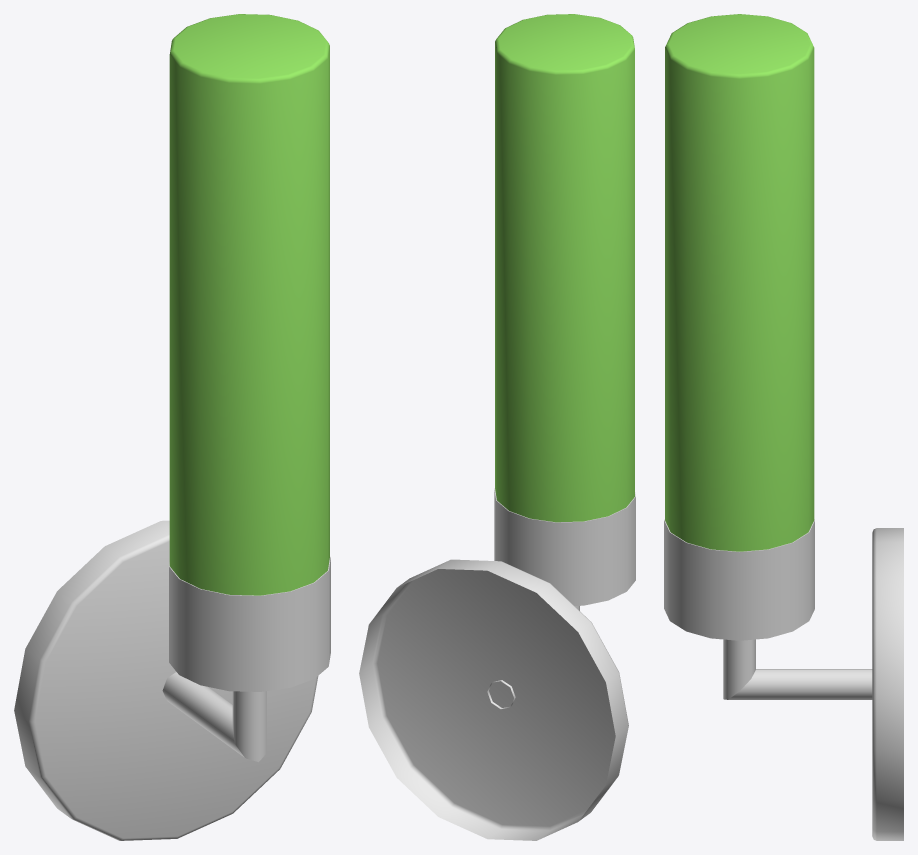
Rendered from InteriorLight06.fbx.
3 views of the same model, side by side, from view 1: azimuth 30°, elevation 25°; view 2: azimuth 150°, elevation 25°; view 3: azimuth 270°, elevation 25° (orthographic). The views are drawn at different scales.
Visible parts, largest first — view 1: Circle_005; view 2: Circle_005; view 3: Circle_005.
Part boxes in pixels (left/top/right/bottom): Circle_005: left=14, top=14, right=330, bottom=840; Circle_005: left=359, top=14, right=635, bottom=840; Circle_005: left=664, top=14, right=903, bottom=840.
Size of the model in its own units: 28 by 77.17 by 21.43.
